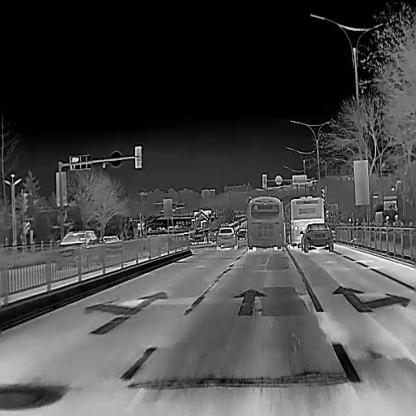car: (284, 198, 324, 249), (246, 201, 283, 251), (54, 230, 99, 270), (300, 223, 333, 253), (98, 235, 125, 257), (215, 226, 237, 249), (191, 231, 206, 244), (235, 227, 247, 241), (208, 229, 216, 244)
